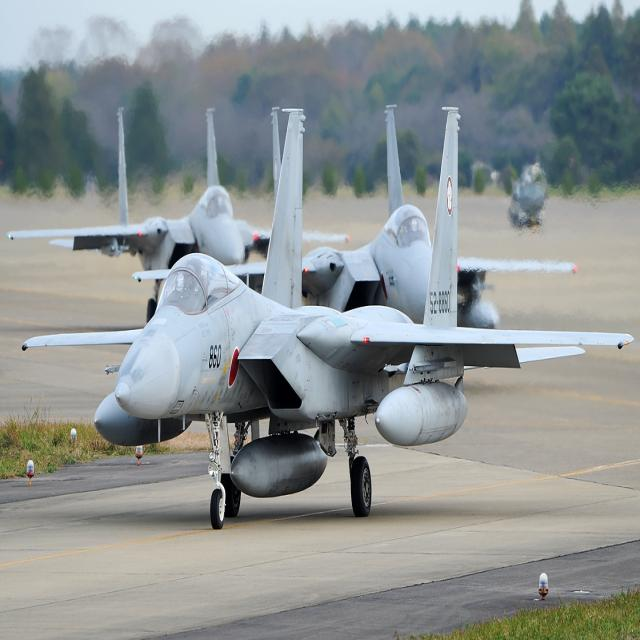MIL_Plane: (21, 106, 634, 529), (132, 104, 578, 329), (7, 106, 350, 324)
